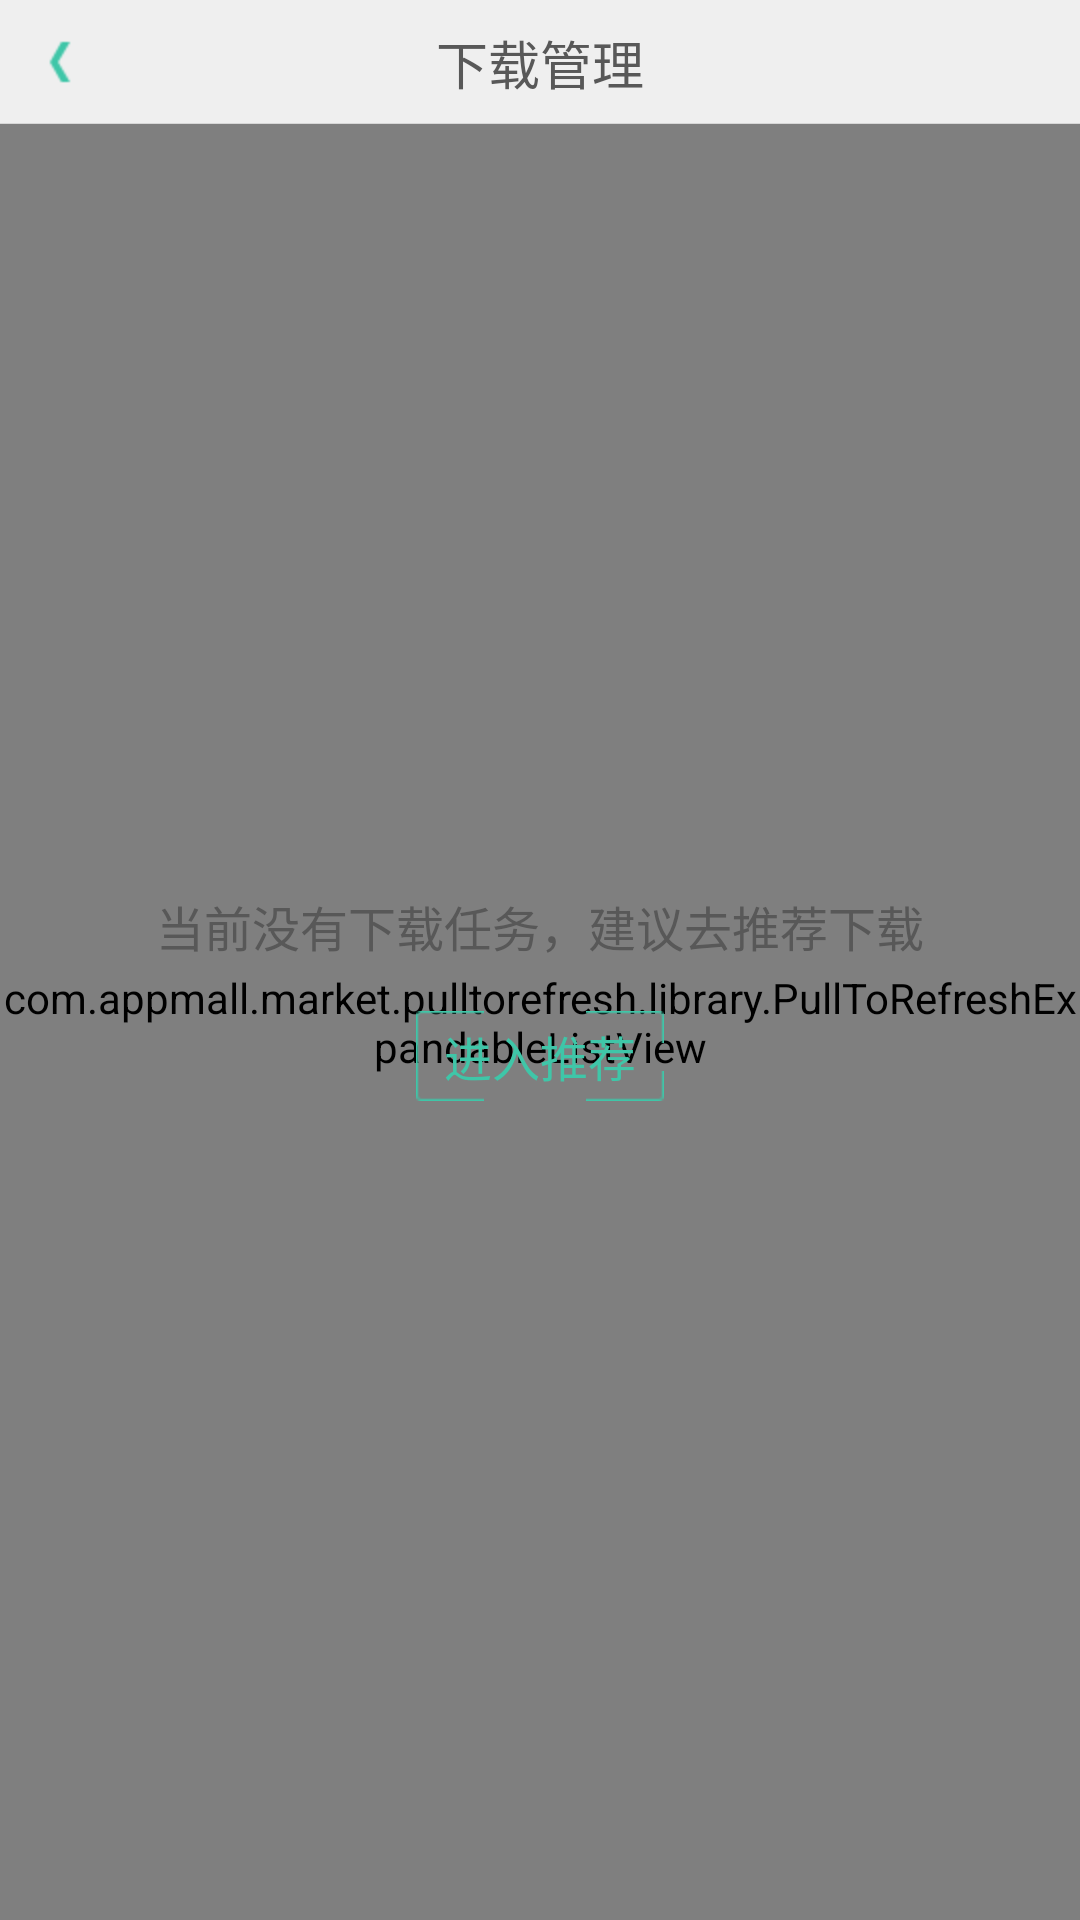

Icon bounding boxes for this 1080px x 1920px phone screenshot, format rect(x1, y1, x2, y2):
top bar back: rect(49, 41, 71, 83)
